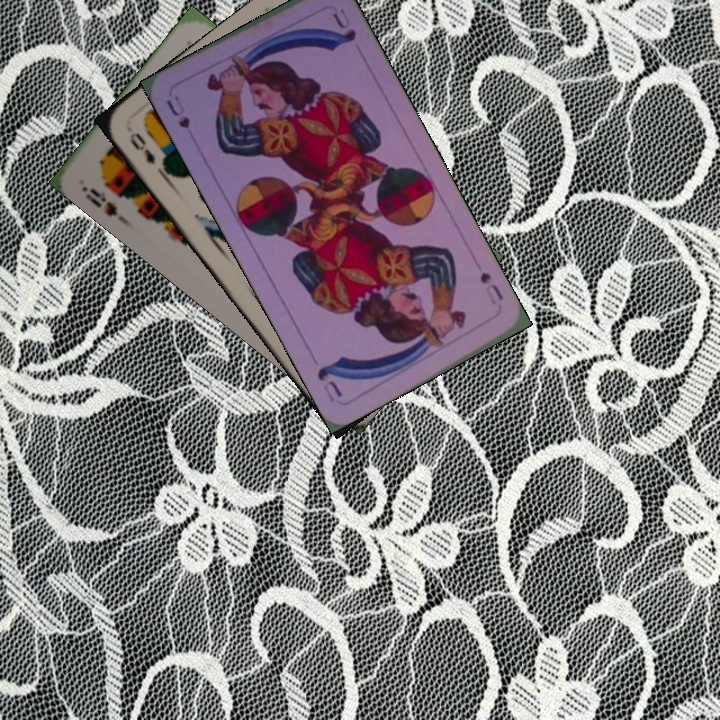EO: (125, 128, 158, 168)
S8: (85, 184, 120, 219)
SU: (162, 91, 193, 132), (475, 268, 506, 307)
